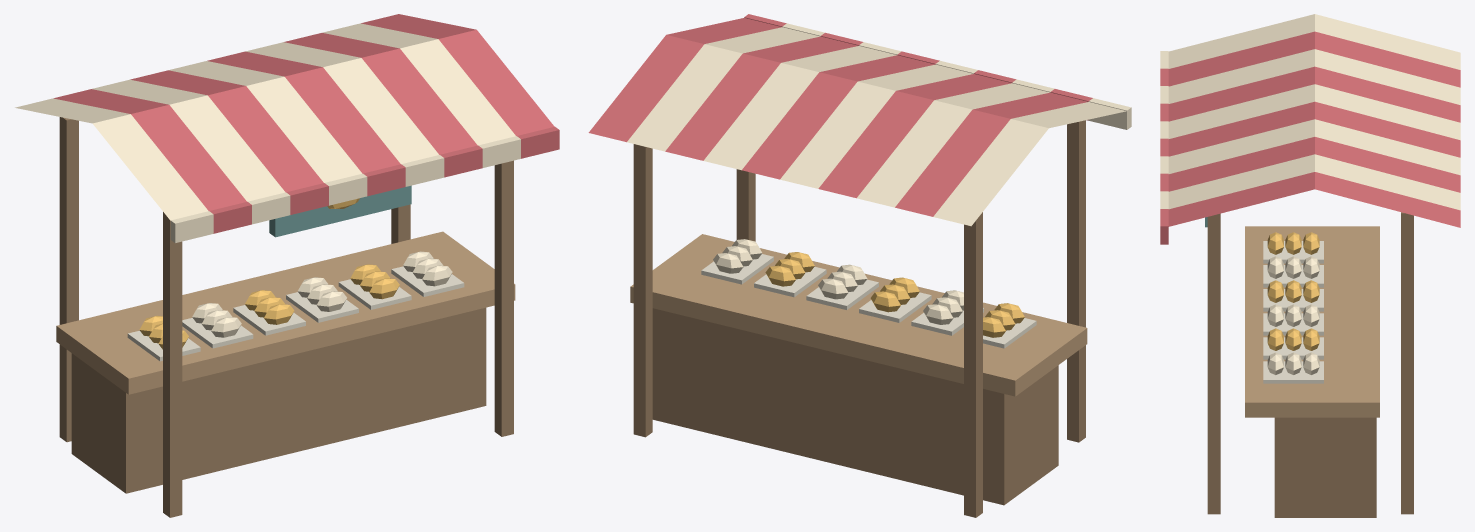
File: CanvasFoodStall.glb
3 renders of one model, left to right at view 1: azimuth 30°, elevation 25°; view 2: azimuth 150°, elevation 25°; view 3: azimuth 270°, elevation 25°, orthographic. The views are drawn at different scales.
Parts seen in each view (by area): view 1: CanvasFoodStall; view 2: CanvasFoodStall; view 3: CanvasFoodStall.
Boxes of the visible parts, <box> form: CanvasFoodStall: <box>15,14,559,517</box>; CanvasFoodStall: <box>588,14,1131,517</box>; CanvasFoodStall: <box>1160,14,1460,517</box>.
Bounding box in the file's own units: 3.52 × 3.11 × 2.53.
